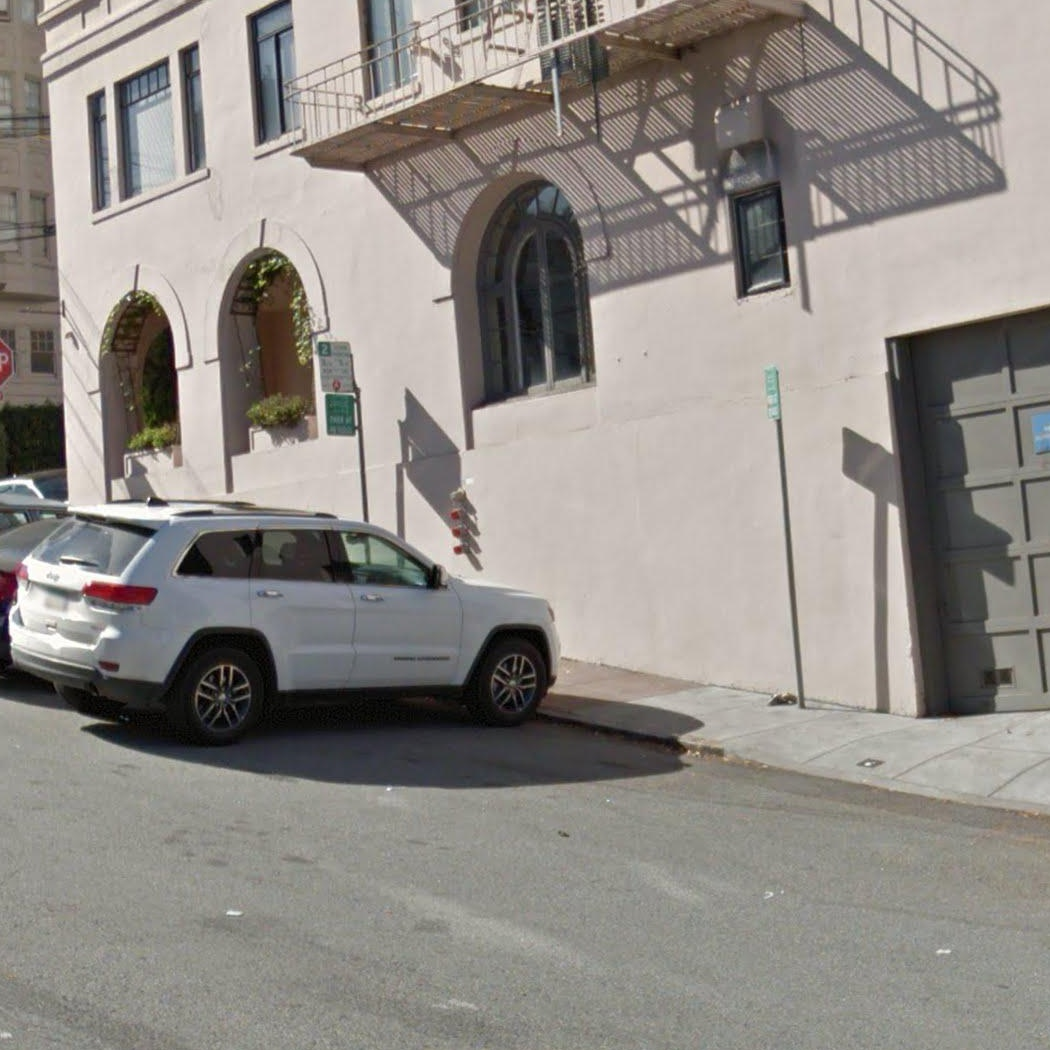2 Hour Parking: (318, 341, 354, 393)
